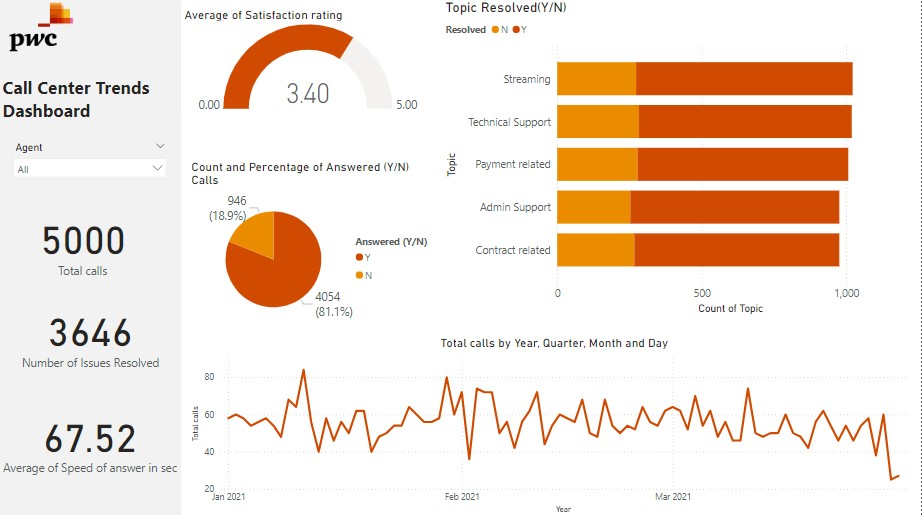

Layout of this report page (visuals, bound fields, positions):
{"tool":"powerbi","page":{"name":"Page 2","canvas":[1280,720],"ordinal":1},"visuals":[{"type":"shape","box":[0,0,1280,85.8],"z":0},{"type":"image","box":[0,0,108.7,86.1],"z":1000},{"type":"textbox","box":[191.6,7.2,602.1,71.5],"z":2000},{"type":"gauge","fields":{"Y":["Avg(Sheet1.Satisfaction rating)"]},"box":[108.7,208.9,170.8,151.1],"z":3000},{"type":"pieChart","title":"Count and Percentage of Answered (Y/N) Calls","fields":{"Category":["Sheet1.Answered (Y/N)"],"Y":["CountNonNull(Sheet1.Answered (Y/N))"]},"box":[552,108.7,324.7,241.4],"z":4000},{"type":"lineChart","fields":{"Y":["Sheet1.Total calls"],"Category":["Sheet1.Date.Variation.Date Hierarchy.Year","Sheet1.Date.Variation.Date Hierarchy.Quarter","Sheet1.Date.Variation.Date Hierarchy.Month","Sheet1.Date.Variation.Date Hierarchy.Day"]},"box":[91.8,371.3,775.1,348.7],"z":5000},{"type":"barChart","fields":{"Category":["Sheet1.Topic"],"Y":["CountNonNull(Sheet1.Topic)","Sum(Sheet1.Topics Resolved)"]},"box":[890.8,108.7,389.6,611.3],"z":6000},{"type":"slicer","fields":{"Values":["Sheet1.Agent"]},"box":[904.9,5.6,375.5,73.4],"z":7000},{"type":"card","fields":{"Values":["Sheet1.Total calls"]},"box":[108.7,86.1,179.3,108.7],"z":8000},{"type":"gauge","fields":{"Y":["Avg(Sheet1.Speed of answer in seconds)"]},"box":[307.8,208.9,223.1,145.4],"z":9000},{"type":"shape","box":[0,86.1,81.9,633.9],"z":10000},{"type":"card","fields":{"Values":["Sum(Sheet1.Topics Resolved)"]},"box":[307.8,86.1,223.1,111.5],"z":11000}]}

Visuals, with their boxes in screenshot pixels (x1, y1, x2, y2), scaled from the page's 1280x720 canvas onto the 922x515 screenshot:
shape: l=0, t=0, r=921, b=61
image: l=0, t=0, r=78, b=62
textbox: l=138, t=5, r=572, b=56
gauge - Avg(Sheet1.Satisfaction rating): l=78, t=149, r=201, b=258
"Count and Percentage of Answered (Y/N) Calls" pieChart: l=398, t=78, r=631, b=250
lineChart - Sheet1.Total calls x Sheet1.Date.Variation.Date Hierarchy.Year: l=66, t=266, r=624, b=514
barChart - Sheet1.Topic x CountNonNull(Sheet1.Topic): l=642, t=78, r=921, b=514
slicer - Sheet1.Agent: l=652, t=4, r=921, b=57
card - Sheet1.Total calls: l=78, t=62, r=207, b=139
gauge - Avg(Sheet1.Speed of answer in seconds): l=222, t=149, r=382, b=253
shape: l=0, t=62, r=59, b=514
card - Sum(Sheet1.Topics Resolved): l=222, t=62, r=382, b=141
